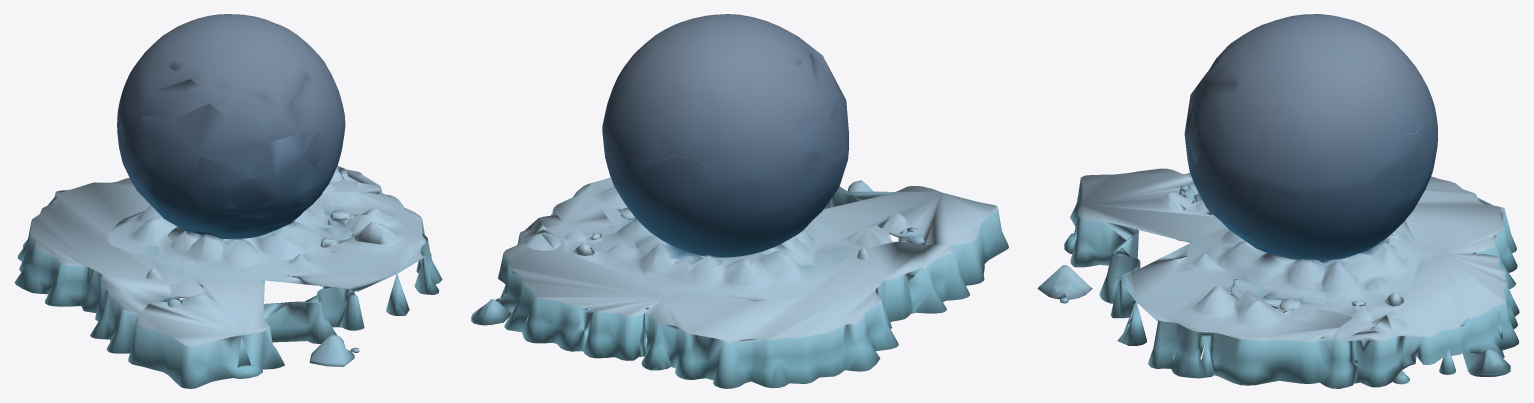
File: pluto_planet_20260525.glb
3 views of the same model, side by side, from view 1: azimuth 30°, elevation 25°; view 2: azimuth 150°, elevation 25°; view 3: azimuth 270°, elevation 25° (orthographic). The views are drawn at different scales.
Parts seen in each view (by area): view 1: material; view 2: material; view 3: material.
Boxes of the visible parts, box(x1,y1,x2,y2) form: material: box(14, 14, 442, 388); material: box(471, 14, 1008, 388); material: box(1037, 14, 1519, 388).
Size of the model in its own units: 1.74 by 1.18 by 1.9.
Materials: 1 (1 with a texture image).
